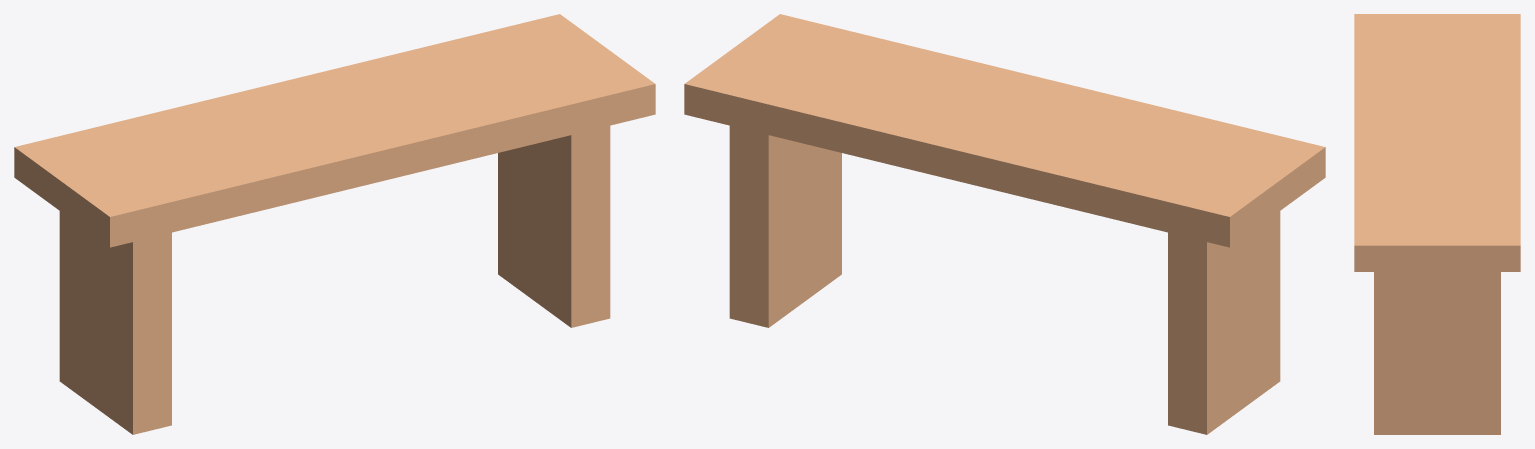
3 renders of one model, left to right at view 1: azimuth 30°, elevation 25°; view 2: azimuth 150°, elevation 25°; view 3: azimuth 270°, elevation 25°, orthographic. The views are drawn at different scales.
Parts seen in each view (by area): view 1: Bench seat, Bench support, Bench support.001; view 2: Bench seat, Bench support, Bench support.001; view 3: Bench seat, Bench support.001.
Boxes of the visible parts, box(x1,y1,x2,y2) form: Bench seat: box(14, 14, 655, 247); Bench support: box(59, 211, 171, 434); Bench support.001: box(498, 125, 610, 327); Bench seat: box(684, 14, 1325, 247); Bench support: box(1168, 211, 1280, 434); Bench support.001: box(729, 125, 841, 327); Bench seat: box(1354, 14, 1520, 271); Bench support.001: box(1374, 272, 1500, 434).
Bounding box in the file's own units: 1.12 × 0.46 × 0.34.
Materials: 1 (1 with a texture image).
